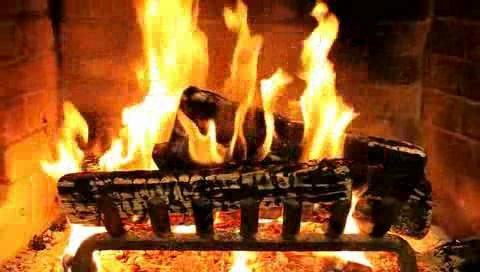fire: (96, 1, 370, 170)
